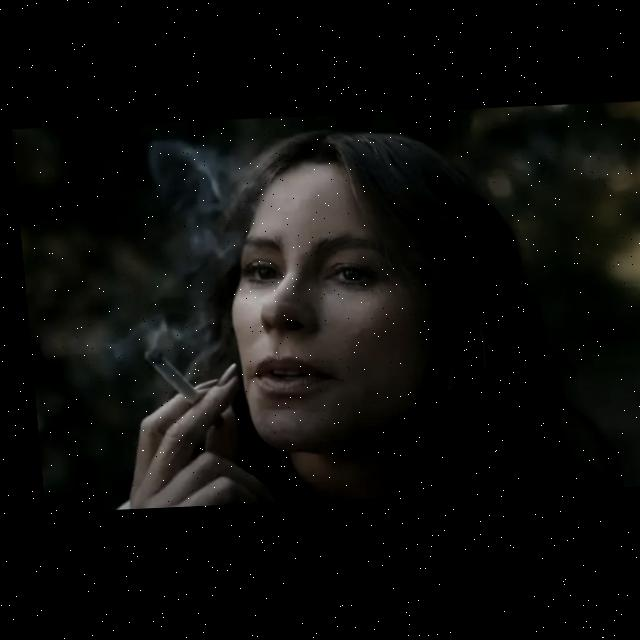cigarette: (138, 345, 194, 408)
